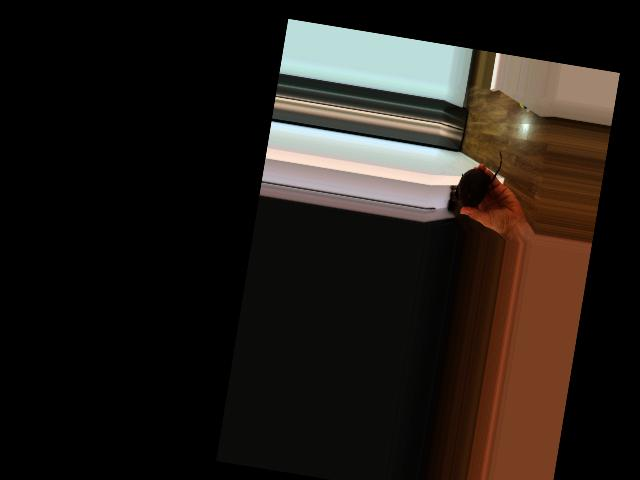beet: (453, 144, 503, 210)
